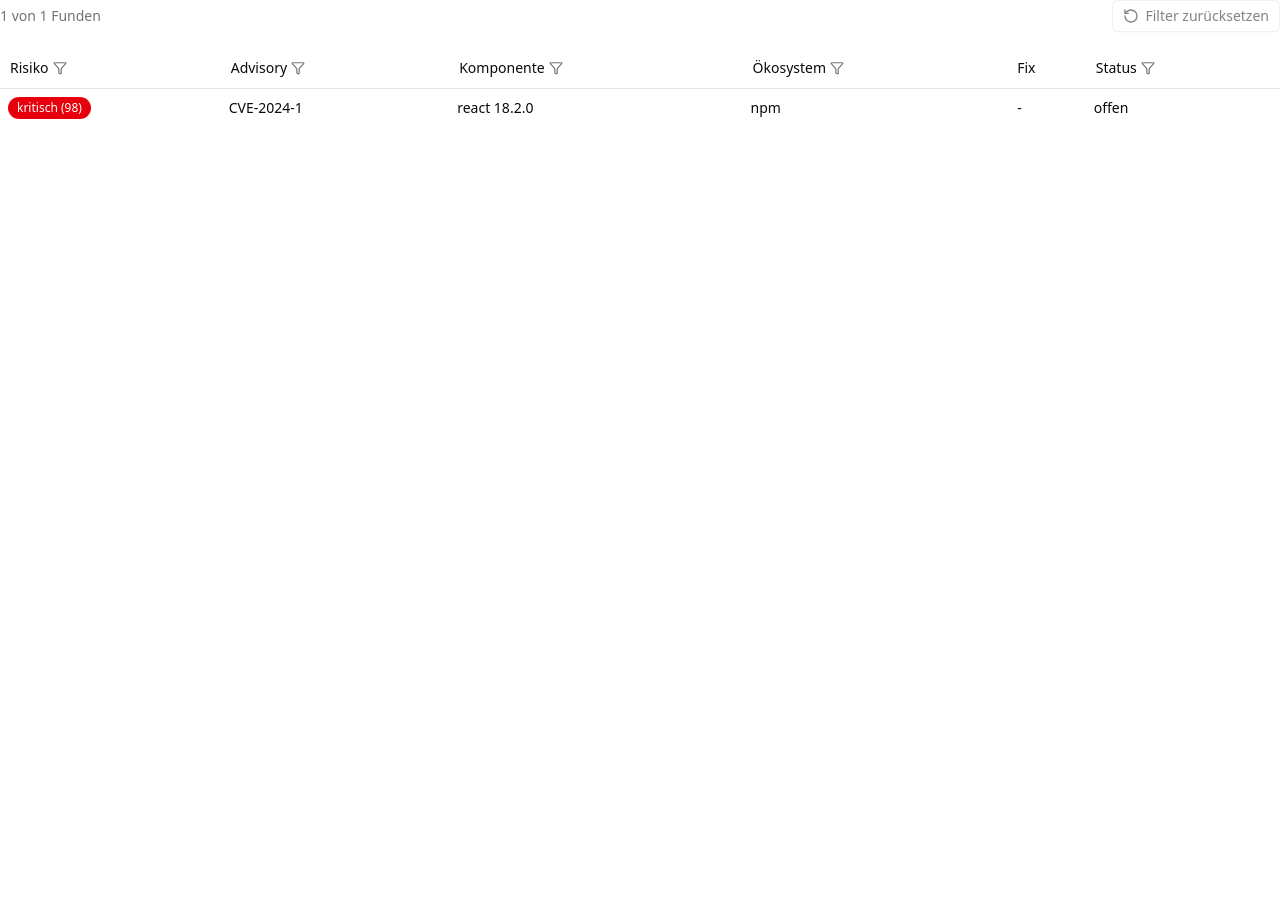
Test case: ApplicationCvesPage › behält Tabelle und Kopf-Filter, wenn Filter nichts finden
The width and height of the screenshot is (1280, 900).
Check: the row with test id "inventory-item-cve-CVE-2024-1-1" is shown, box left=0, top=88, right=1279, bottom=126
What coordinates should you click on to do the following:
click the button with test id "inventory-select-severity"
I would click on:
 (38, 68)
Its box is left=0, top=52, right=77, bottom=84.
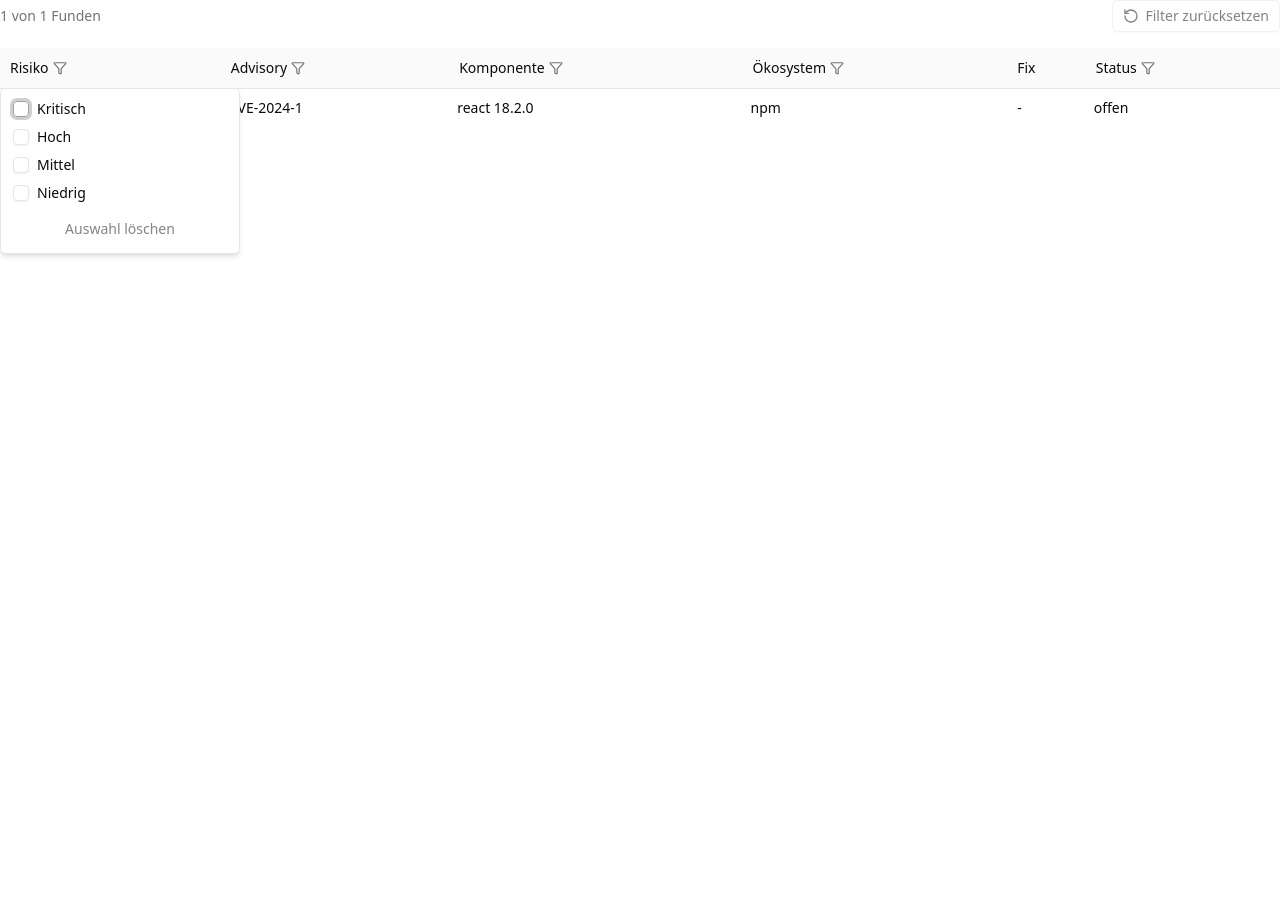
What coordinates should you click on to do the following:
click the checkbox with test id "inventory-checkbox-severity-niedrig"
I would click on:
 (21, 193)
Its box is left=13, top=185, right=29, bottom=201.
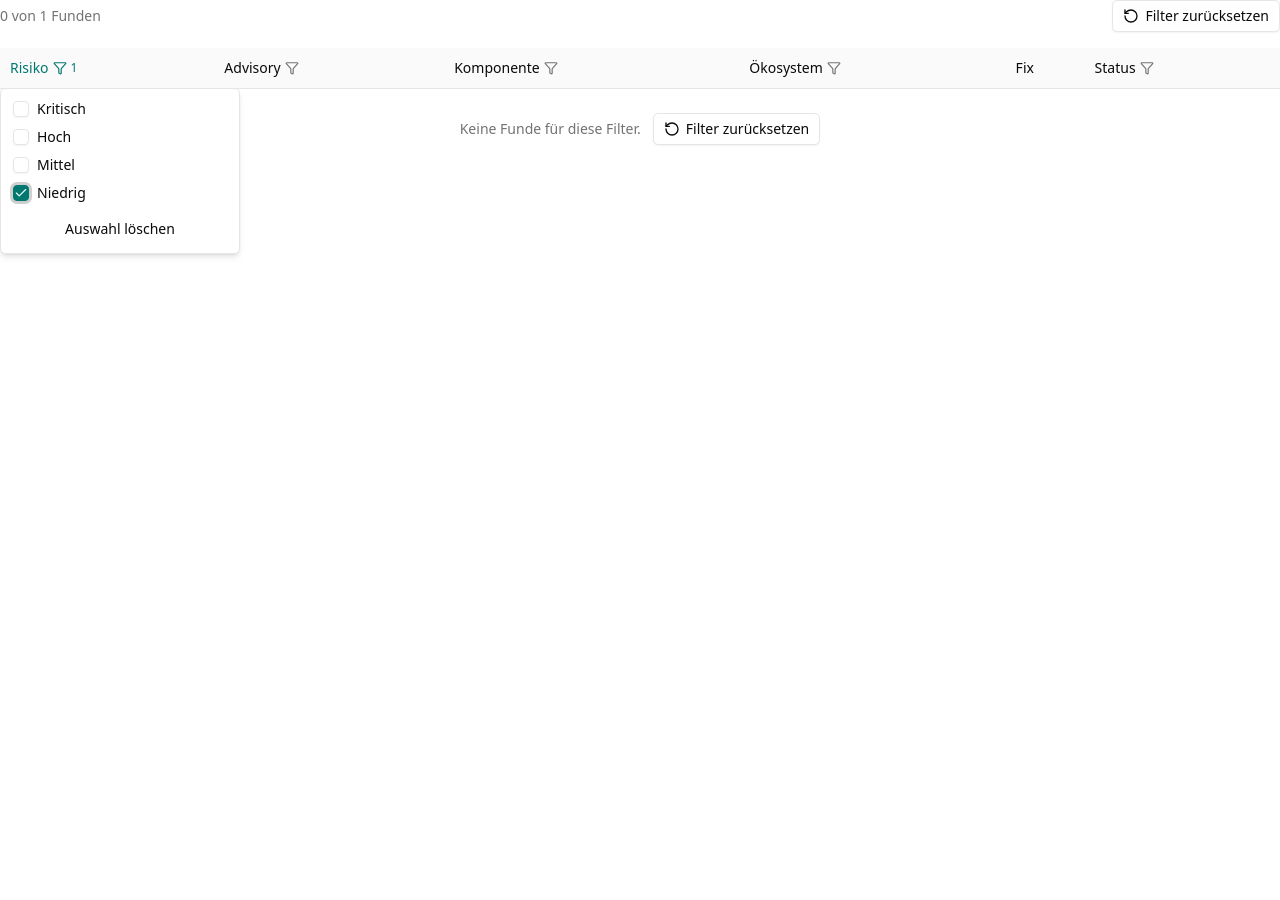
Check: the table with test id "inventory-list-cves" is shown, box left=0, top=48, right=1279, bottom=168
Check: the text "Keine Funde für diese Filter." is shown, box left=460, top=118, right=641, bottom=138
Check: the text with test id "inventory-text-filter-summary" shows "0 von 1", box left=0, top=6, right=101, bottom=26
